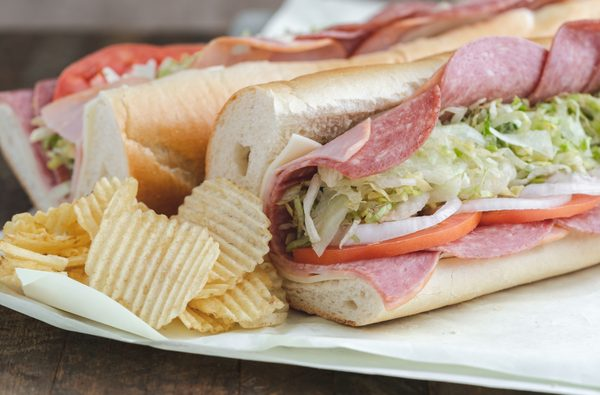soup: (263, 29, 599, 329)
